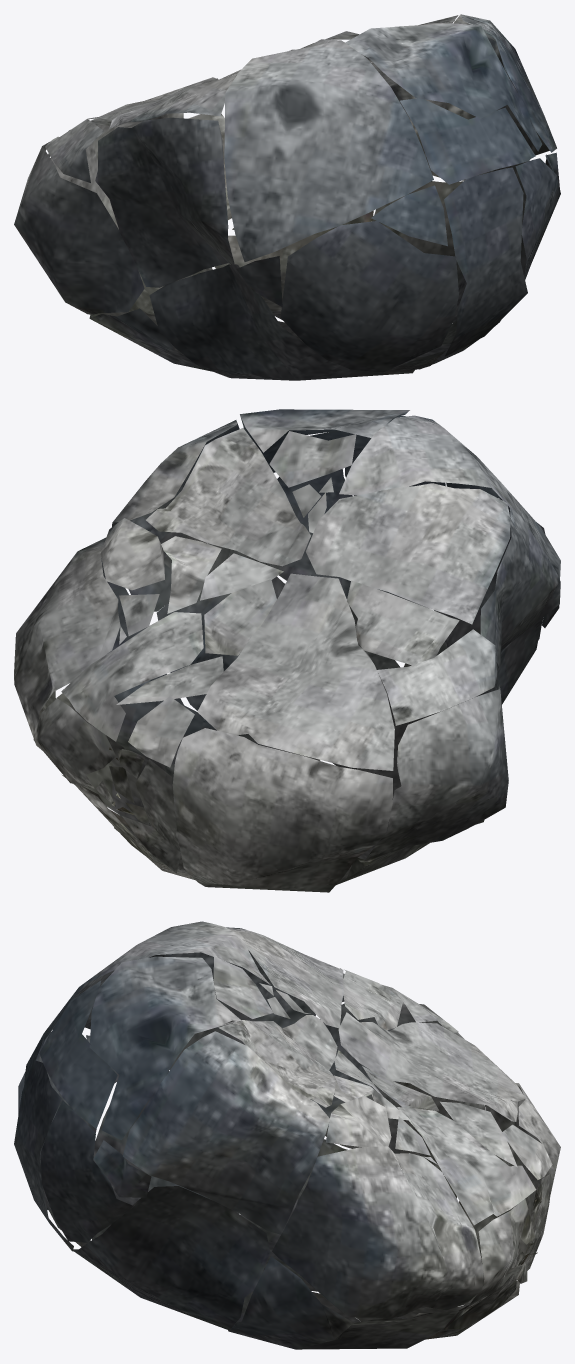
The model's file is masso_fiume.glb.
The picture shows the model from 3 angles, top to bottom: view 1: azimuth 30°, elevation 25°; view 2: azimuth 150°, elevation 25°; view 3: azimuth 270°, elevation 25°; orthographic projection. The views are drawn at different scales.
Visible parts, largest first — view 1: masso_fiume; view 2: masso_fiume; view 3: masso_fiume.
Boxes of the visible parts, x1,y1,x2,y2 form: masso_fiume: (14,14,560,380); masso_fiume: (14,409,560,892); masso_fiume: (14,921,560,1349).
Size of the model in its own units: 0.9838 by 0.706 by 1.01.
Materials: 1 (1 with a texture image).
